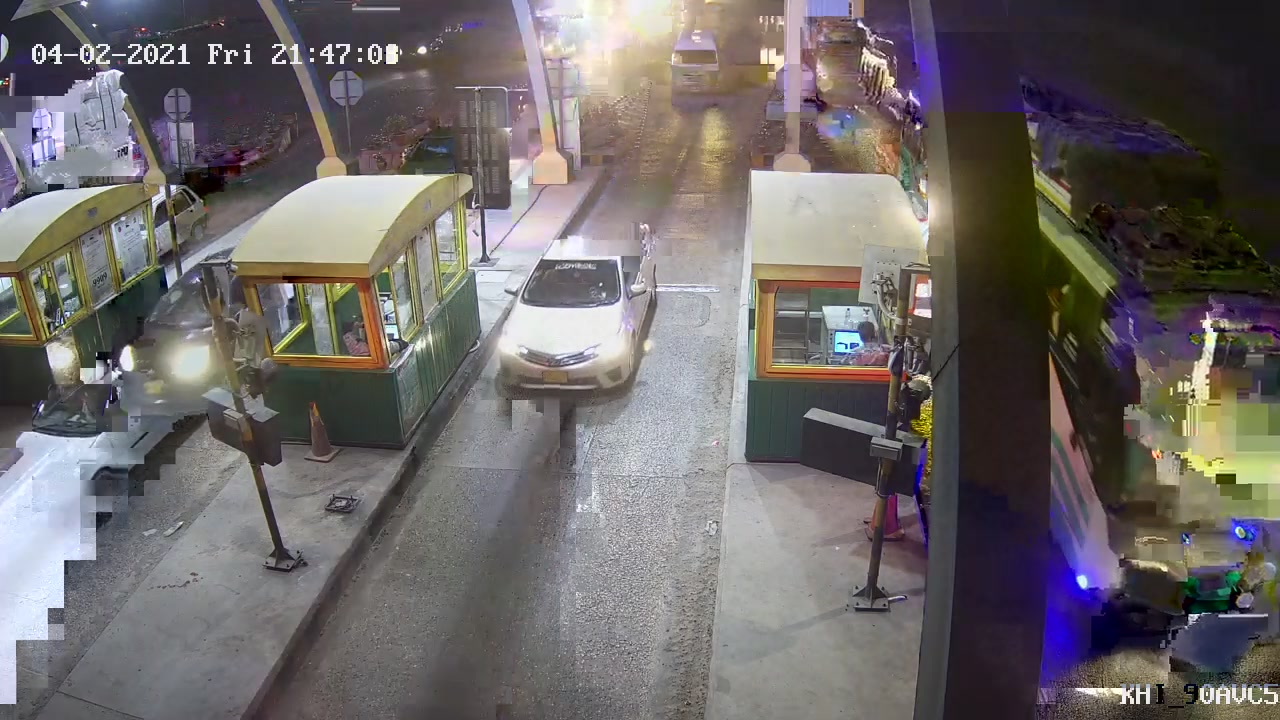F1: (490, 248, 650, 395)
